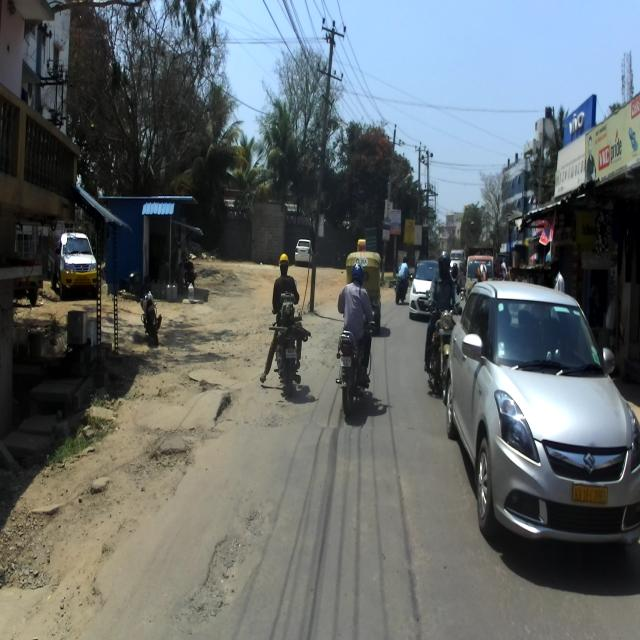car ahead at: (449, 277, 640, 551)
electric pole ahead at: (306, 9, 347, 307)
motorcycle ahead at: (332, 327, 377, 418)
